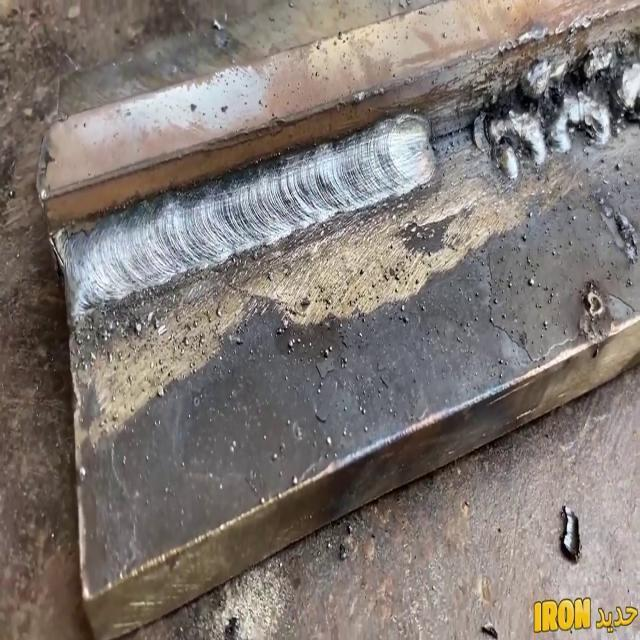Bad Welding: (476, 34, 638, 180)
Good Welding: (52, 111, 435, 320)
